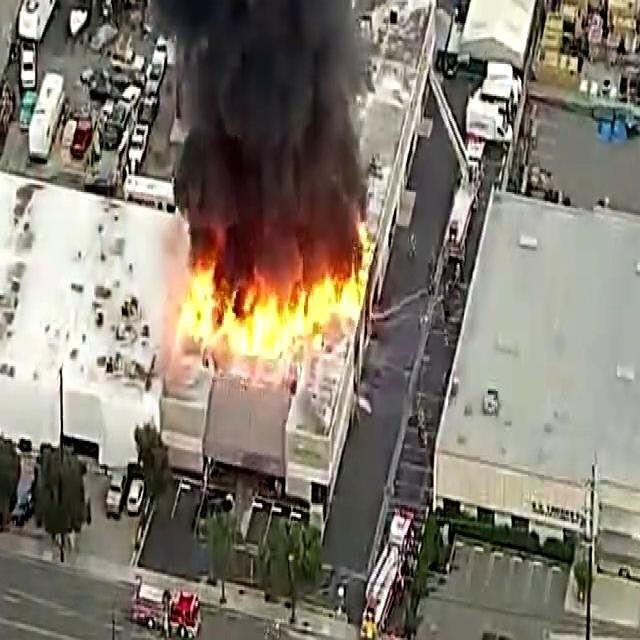fire: (190, 249, 365, 354)
smoke: (176, 0, 353, 204)
